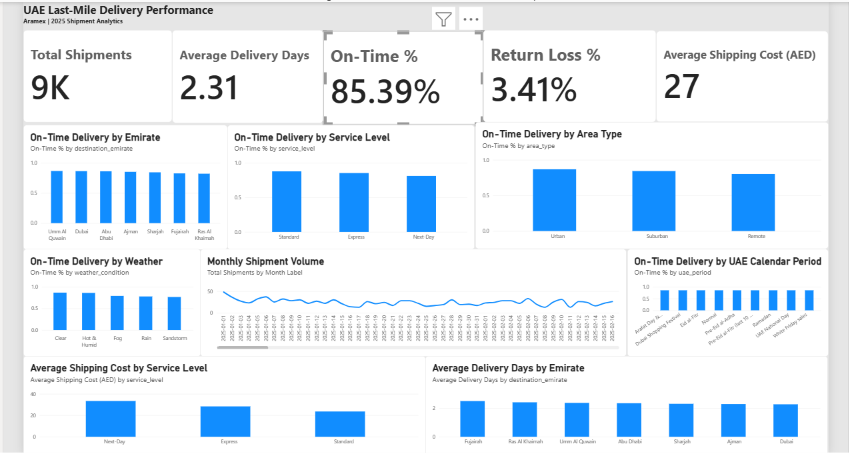

The dashboard page shown, as its layout file describes it:
{"tool":"powerbi","page":{"name":"UAE Last-Mile Delivery Performance","canvas":[1920,1080],"ordinal":0},"visuals":[{"type":"cardVisual","fields":{"Data":["shipments_clean.Total Shipments"]},"box":[0,67.5,355,220],"z":0},{"type":"cardVisual","fields":{"Data":["shipments_clean.On-Time %"]},"box":[715,70,382.5,222.5],"z":1000},{"type":"cardVisual","fields":{"Data":["shipments_clean.Average Delivery Days"]},"box":[355.6,67.8,360,222.2],"z":2000},{"type":"cardVisual","fields":{"Data":["shipments_clean.Average Shipping Cost"]},"box":[1510,70,410,217.5],"z":3000},{"type":"cardVisual","fields":{"Data":["shipments_clean.Return Loss %"]},"box":[1097.5,67.5,412.5,220],"z":4000},{"type":"clusteredColumnChart","title":"On-Time Delivery by Emirate","fields":{"Category":["shipments_clean.destination_emirate"],"Y":["shipments_clean.On-Time %"]},"box":[0,292.5,487.5,297.5],"z":5000},{"type":"clusteredColumnChart","title":"On-Time Delivery by Service Level","fields":{"Category":["shipments_clean.service_level"],"Y":["shipments_clean.On-Time %"]},"box":[487.5,292.5,590,297.5],"z":6000},{"type":"clusteredColumnChart","title":"On-Time Delivery by Weather","fields":{"Category":["shipments_clean.weather_condition"],"Y":["shipments_clean.On-Time %"]},"box":[0,590,423.3,256.7],"z":7000},{"type":"lineChart","title":"Monthly Shipment Volume","fields":{"Category":["shipments_clean.Month Label"],"Y":["shipments_clean.Total Shipments"]},"box":[423.3,590,1016.7,256.7],"z":8000},{"type":"clusteredColumnChart","title":"Average Shipping Cost by Service Level","fields":{"Category":["shipments_clean.service_level"],"Y":["shipments_clean.Average Shipping Cost"]},"box":[0,845,960,235],"z":9000},{"type":"clusteredColumnChart","title":"Average Delivery Days by Emirate","fields":{"Category":["shipments_clean.destination_emirate"],"Y":["shipments_clean.Average Delivery Days"]},"box":[960,845,960,235],"z":10000},{"type":"clusteredColumnChart","title":"On-Time Delivery by Area Type","fields":{"Category":["shipments_clean.area_type"],"Y":["shipments_clean.On-Time %"]},"box":[1077.5,287.5,842.5,302.5],"z":11000},{"type":"clusteredColumnChart","title":"On-Time Delivery by UAE Calendar Period","fields":{"Category":["uae_calendar_staging.uae_period"],"Y":["shipments_clean.On-Time %"]},"box":[1440,590,480,256.7],"z":12000},{"type":"textbox","box":[0,0,1920,82.5],"z":13000}]}

Visuals, with their boxes on the page's 1920x1080 design canvas (x1, y1, x2, y2). These are canvas units, not pixel positions in the 849x453 screenshot, which may show the page scaled, cropped or inside an application window:
cardVisual - shipments_clean.Total Shipments: x1=0, y1=68, x2=355, y2=288
cardVisual - shipments_clean.On-Time %: x1=715, y1=70, x2=1098, y2=292
cardVisual - shipments_clean.Average Delivery Days: x1=356, y1=68, x2=716, y2=290
cardVisual - shipments_clean.Average Shipping Cost: x1=1510, y1=70, x2=1920, y2=288
cardVisual - shipments_clean.Return Loss %: x1=1098, y1=68, x2=1510, y2=288
"On-Time Delivery by Emirate" clusteredColumnChart: x1=0, y1=292, x2=488, y2=590
"On-Time Delivery by Service Level" clusteredColumnChart: x1=488, y1=292, x2=1078, y2=590
"On-Time Delivery by Weather" clusteredColumnChart: x1=0, y1=590, x2=423, y2=847
"Monthly Shipment Volume" lineChart: x1=423, y1=590, x2=1440, y2=847
"Average Shipping Cost by Service Level" clusteredColumnChart: x1=0, y1=845, x2=960, y2=1080
"Average Delivery Days by Emirate" clusteredColumnChart: x1=960, y1=845, x2=1920, y2=1080
"On-Time Delivery by Area Type" clusteredColumnChart: x1=1078, y1=288, x2=1920, y2=590
"On-Time Delivery by UAE Calendar Period" clusteredColumnChart: x1=1440, y1=590, x2=1920, y2=847
textbox: x1=0, y1=0, x2=1920, y2=82
